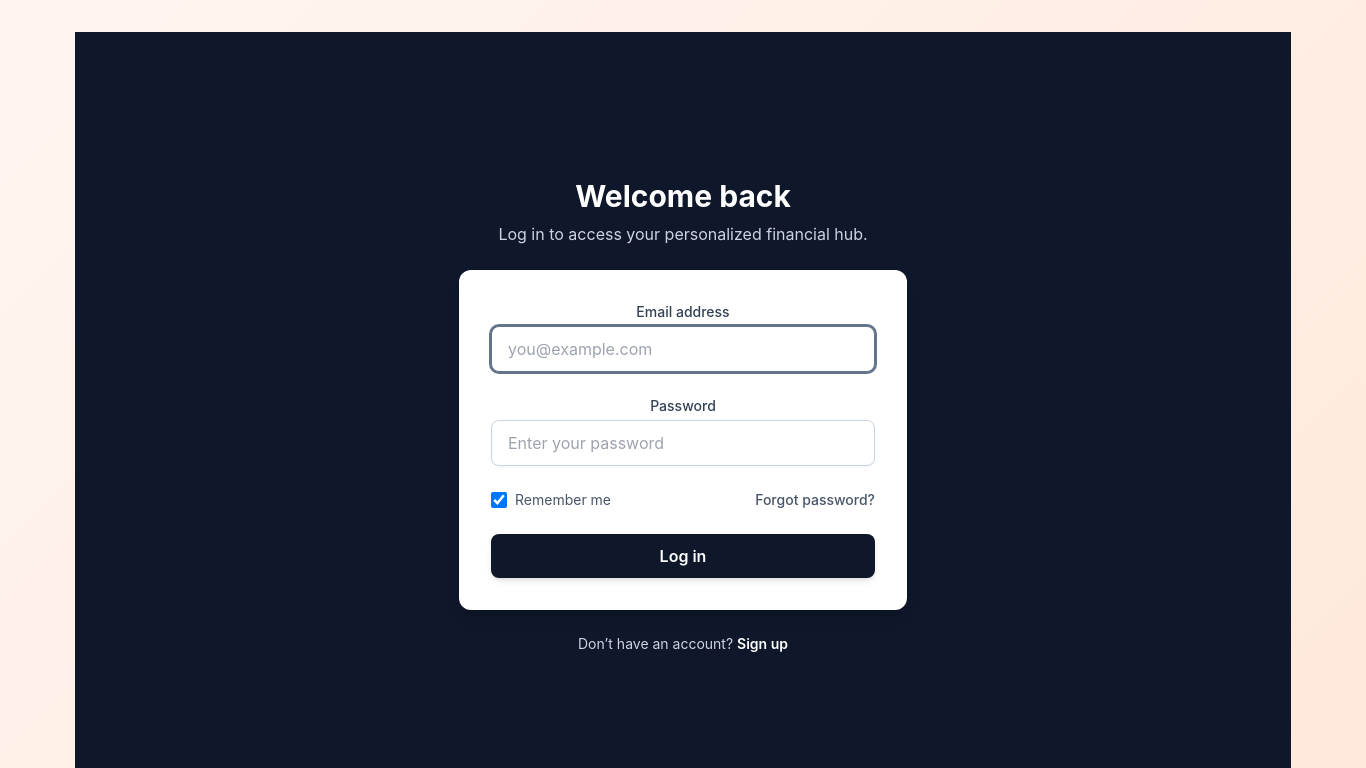
Test: LoginPage › announces server errors when login fails
Type "user@example.com" into the field labelled "Email address". click: (683, 349)
box: x1=491 y1=326 x2=875 y2=372
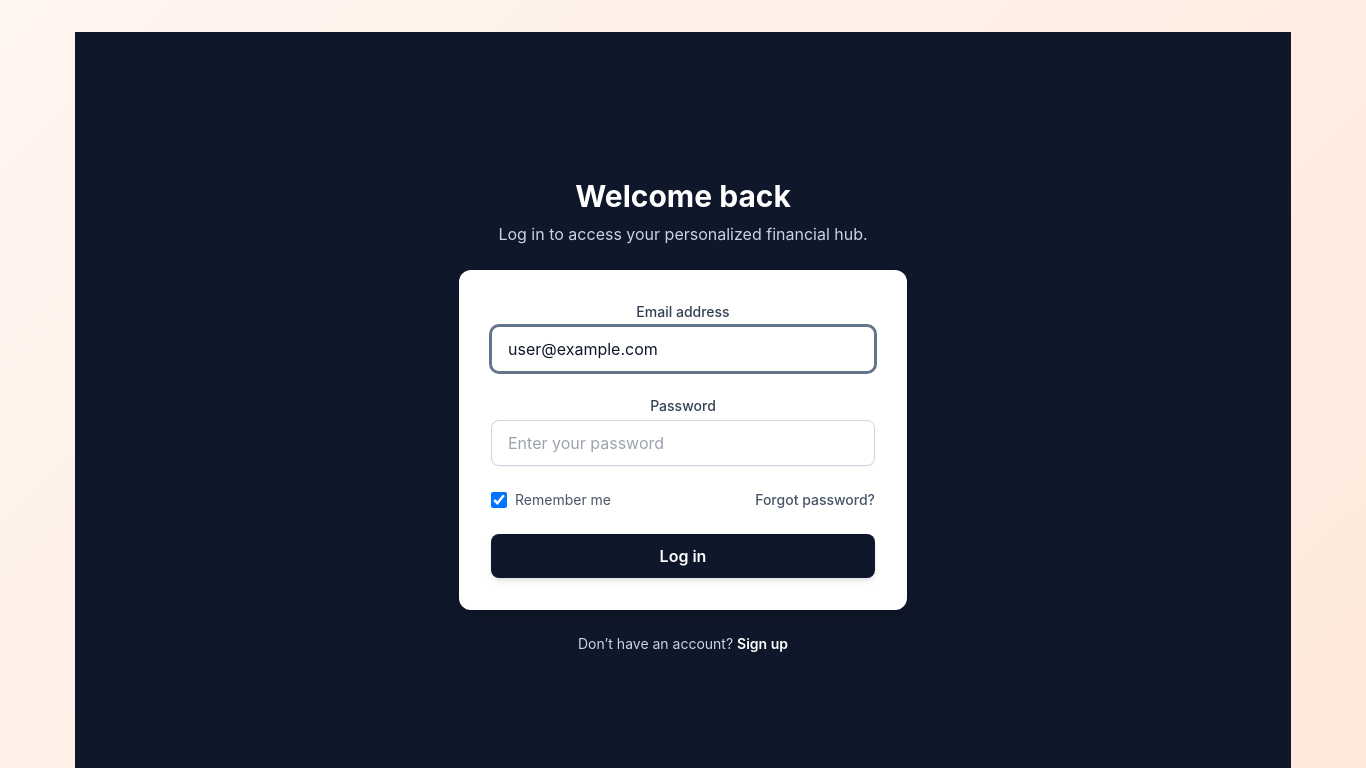
Type "Password123!" into the password field labelled "Password". click: (683, 443)
box: x1=491 y1=420 x2=875 y2=466
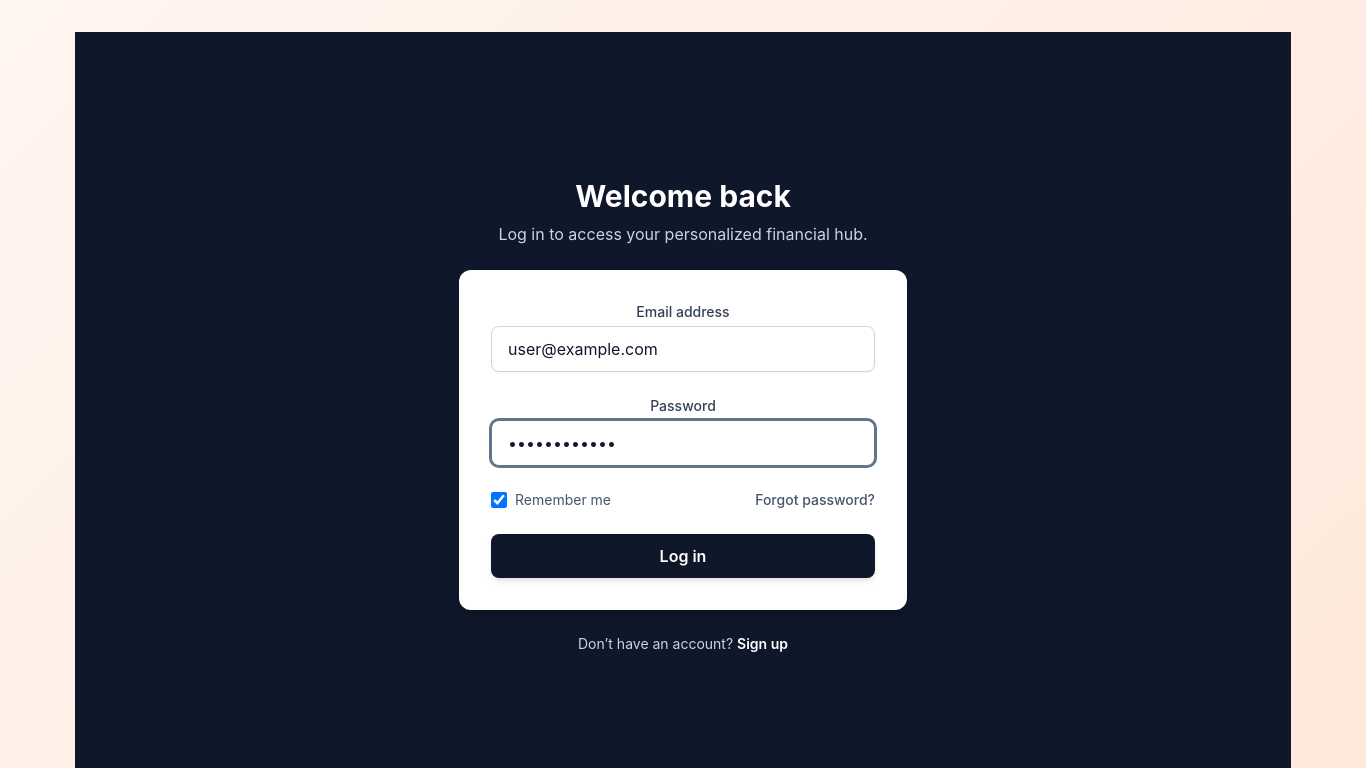
Click the button "Log in". click: click(683, 556)
box: x1=491 y1=534 x2=875 y2=578
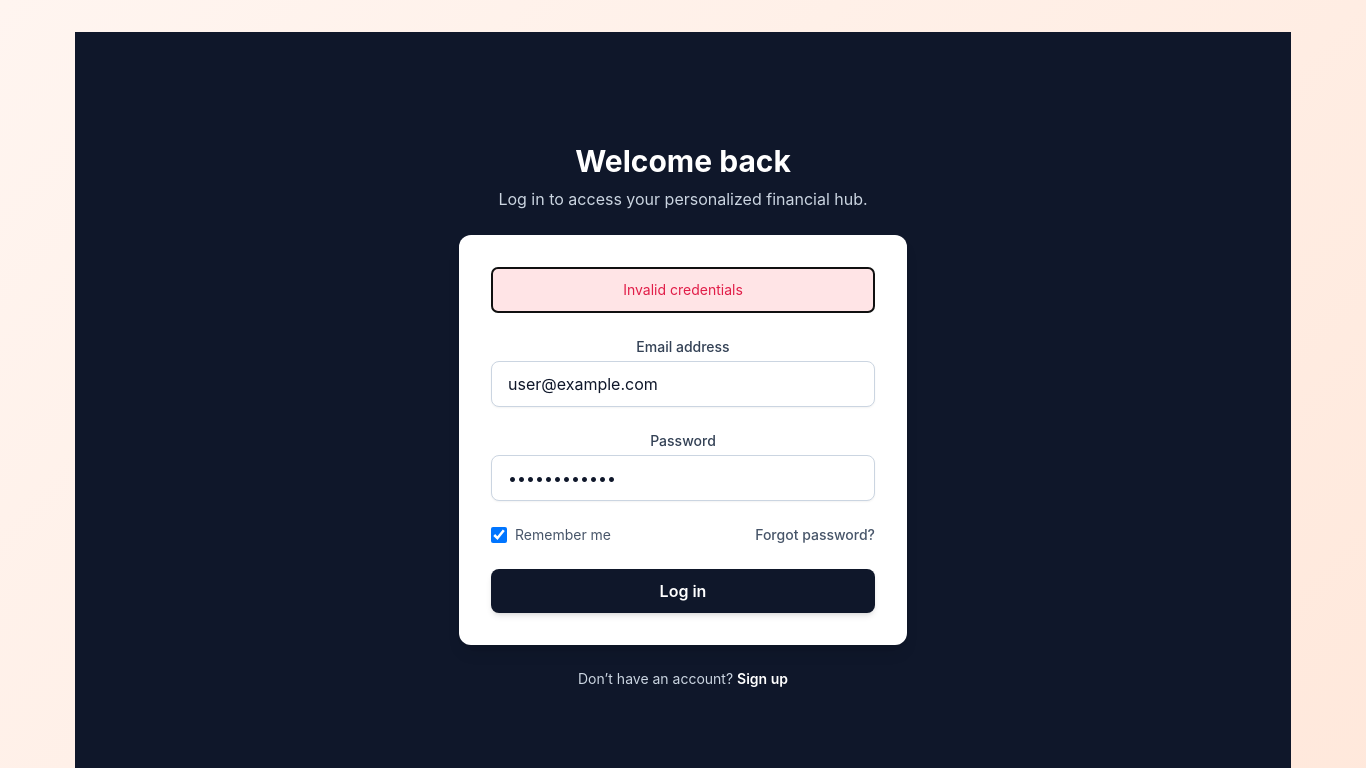
Expected: the message reads "Invalid credentials", x1=623 y1=281 x2=743 y2=298
